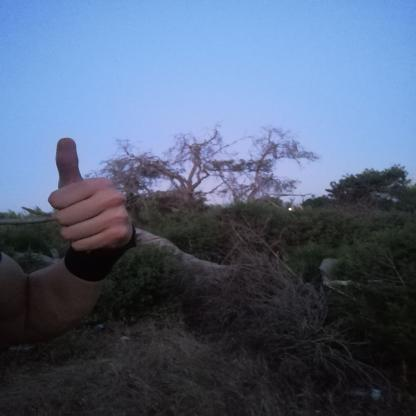ALIF: (36, 128, 145, 262)
